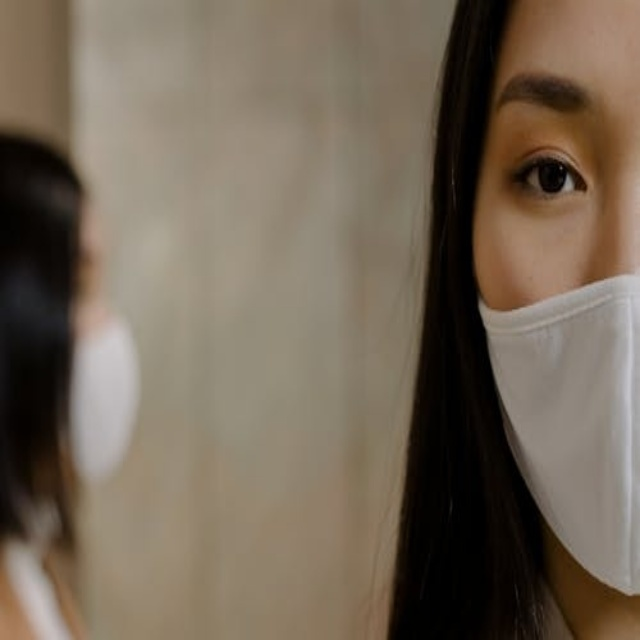Mascara: (477, 264, 640, 599), (67, 313, 142, 486)
Sin_gafas: (509, 151, 588, 201)
